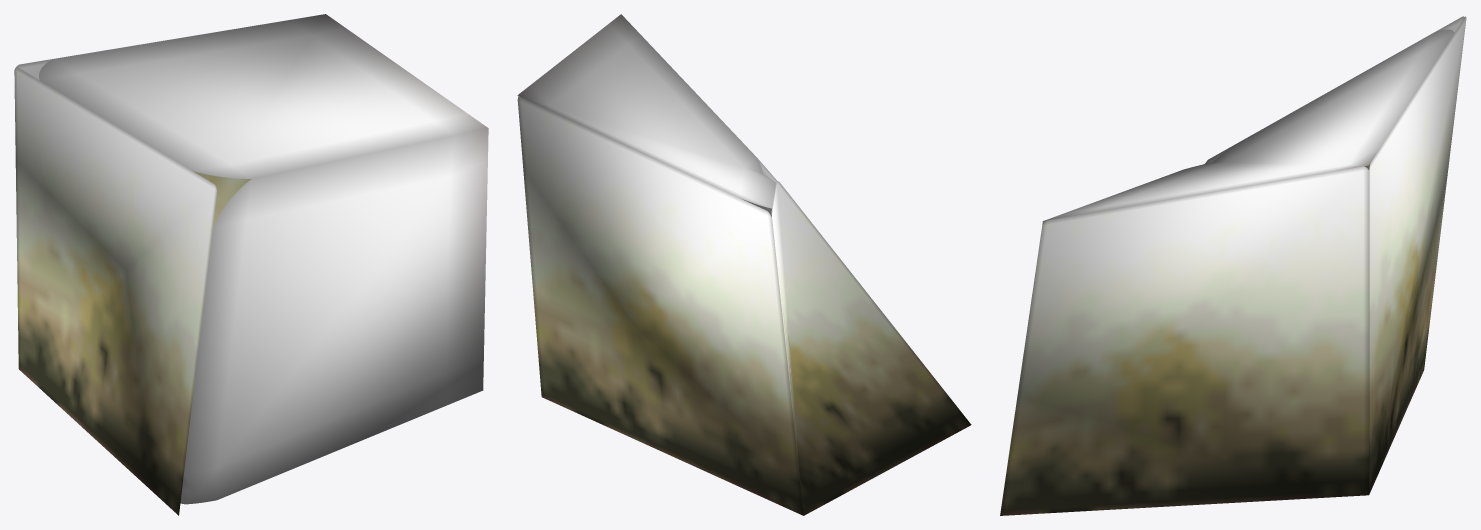
The picture shows the model from 3 angles, left to right: view 1: azimuth 30°, elevation 25°; view 2: azimuth 150°, elevation 25°; view 3: azimuth 270°, elevation 25°; orthographic projection. The views are drawn at different scales.
Visible parts, largest first — view 1: T1L8M004_9; view 2: T1L8M004_9; view 3: T1L8M004_9.
Part boxes in pixels (<box>): T1L8M004_9: <box>14,14,488,515</box>; T1L8M004_9: <box>517,14,971,515</box>; T1L8M004_9: <box>1000,16,1466,515</box>.
Size of the model in its own units: 0.2227 by 0.2227 by 0.2236.
